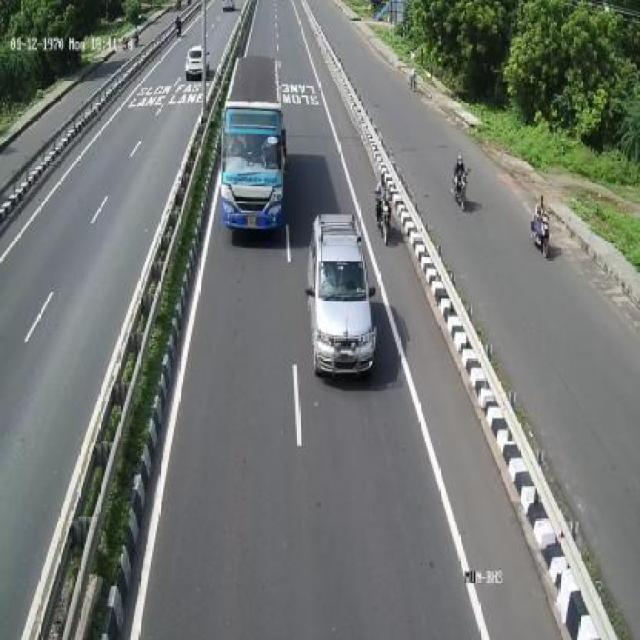car: (310, 214, 378, 377)
